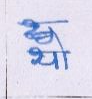au_matra: (50, 10, 73, 69)
